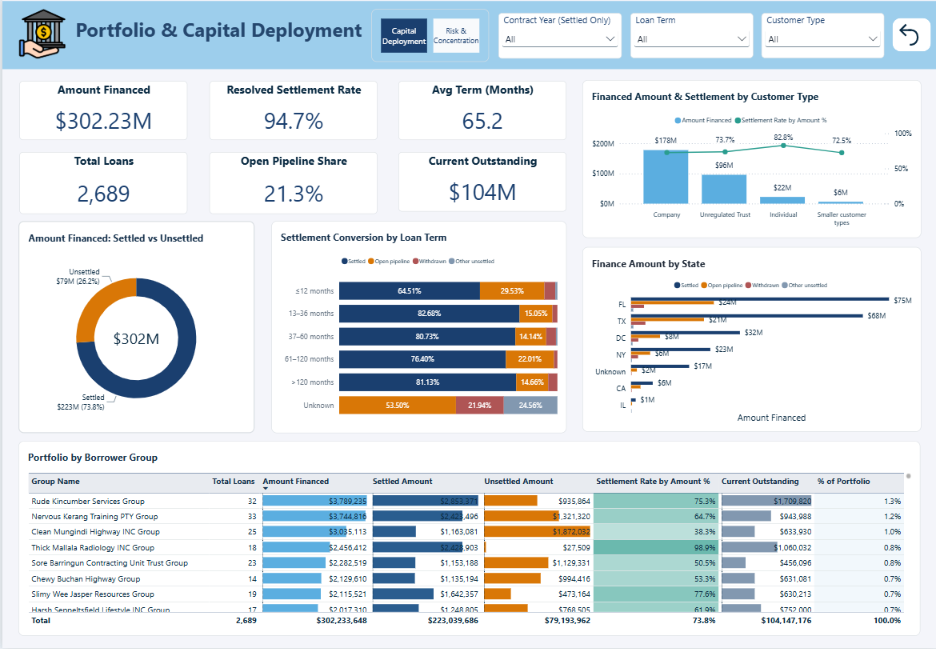

What the dashboard file says about the page in this screenshot:
{"tool":"powerbi","page":{"name":"Capital Deployment","canvas":[1560,1080],"ordinal":0},"visuals":[{"type":"shape","box":[0,1.1,1560,113.3],"z":0},{"type":"textbox","box":[121.4,27.1,494.3,72.9],"z":1000},{"type":"card","title":"Total Loans","fields":{"Values":["All Measures.TotalLoans"]},"box":[28,253.3,280,103.3],"z":2000},{"type":"card","title":"Amount Financed","fields":{"Values":["All Measures.AmountFinanced"]},"box":[28,135,280,98.3],"z":3000},{"type":"card","title":"Current Outstanding","fields":{"Values":["All Measures.Portfolio Outstanding"]},"box":[660,253.3,280,99],"z":4000},{"type":"slicer","fields":{"Values":["credit_facilities.Term Band"]},"box":[1047,21,205,75],"z":5000},{"type":"slicer","fields":{"Values":["Date.Year"]},"box":[826,21,205.7,75.7],"z":6000},{"type":"slicer","fields":{"Values":["credit_facilities.Customer Type"]},"box":[1265.7,21,205,75],"z":7000},{"type":"card","title":"Avg Term (Months)","fields":{"Values":["All Measures.AverageLoanTerm"]},"box":[660,135,280,98.3],"z":8000},{"type":"hundredPercentStackedBarChart","title":"Settlement Conversion by Loan Term","fields":{"Category":["credit_facilities.Term Band"],"Series":["credit_facilities.Outcome"],"Y":["All Measures.AmountFinanced"]},"box":[448,368,491.7,353.3],"z":9000},{"type":"lineClusteredColumnComboChart","title":"Financed Amount & Settlement by Customer Type","fields":{"Category":["credit_facilities.Customer Group"],"Y":["All Measures.AmountFinanced"],"Y2":["All Measures.Settlement Rate by Amount %"]},"box":[966,133,565,263.3],"z":10000},{"type":"donutChart","title":"Amount Financed: Settled vs Unsettled","fields":{"Category":["CRM.Is_Settled"],"Y":["All Measures.AmountFinanced"]},"box":[26.7,368.3,393.3,353.3],"z":11000},{"type":"clusteredBarChart","title":"Finance Amount by State","fields":{"Category":["credit_facilities.Deal Initiated From"],"Series":["credit_facilities.Outcome"],"Y":["All Measures.AmountFinanced"]},"box":[966,411.7,565,308.3],"z":12000},{"type":"tableEx","title":"Portfolio by Borrower Group","fields":{"Values":["credit_facilities.Group Name","All Measures.TotalLoans","All Measures.AmountFinanced","All Measures.AmountFinanced_Settled","All Measures.AmountFinanced_UnSettled","All Measures.Settlement Rate by Amount %","All Measures.Portfolio Outstanding","All Measures.Portfolio Share %"]},"box":[26,735,1503.3,325],"z":13000},{"type":"pageNavigator","box":[615.7,14.3,195.7,88],"z":14000},{"type":"actionButton","box":[1483,30,64.3,55.7],"z":15000},{"type":"card","title":"Resolved Settlement Rate","fields":{"Values":["All Measures.Resolved Settlement Rate %"]},"box":[345,135,280,98.3],"z":16000},{"type":"card","title":"Open Pipeline Share","fields":{"Values":["All Measures.Open Pipeline Share %"]},"box":[345,253,280,103.3],"z":17000},{"type":"image","box":[0,0,132.9,112.9],"z":18000}]}

Visuals, with their boxes in screenshot pixels (x1, y1, x2, y2), scaled from the page's 1560x1080 canvas onto the 936x649 screenshot:
shape: 0 1 935 69
textbox: 73 16 369 60
"Total Loans" card: 17 152 185 214
"Amount Financed" card: 17 81 185 140
"Current Outstanding" card: 396 152 564 212
slicer - credit_facilities.Term Band: 628 13 751 58
slicer - Date.Year: 496 13 619 58
slicer - credit_facilities.Customer Type: 759 13 882 58
"Avg Term (Months)" card: 396 81 564 140
"Settlement Conversion by Loan Term" hundredPercentStackedBarChart: 269 221 564 433
"Financed Amount & Settlement by Customer Type" lineClusteredColumnComboChart: 580 80 919 238
"Amount Financed: Settled vs Unsettled" donutChart: 16 221 252 434
"Finance Amount by State" clusteredBarChart: 580 247 919 433
"Portfolio by Borrower Group" tableEx: 16 442 918 637
pageNavigator: 369 9 487 61
actionButton: 890 18 928 51
"Resolved Settlement Rate" card: 207 81 375 140
"Open Pipeline Share" card: 207 152 375 214
image: 0 0 80 68
